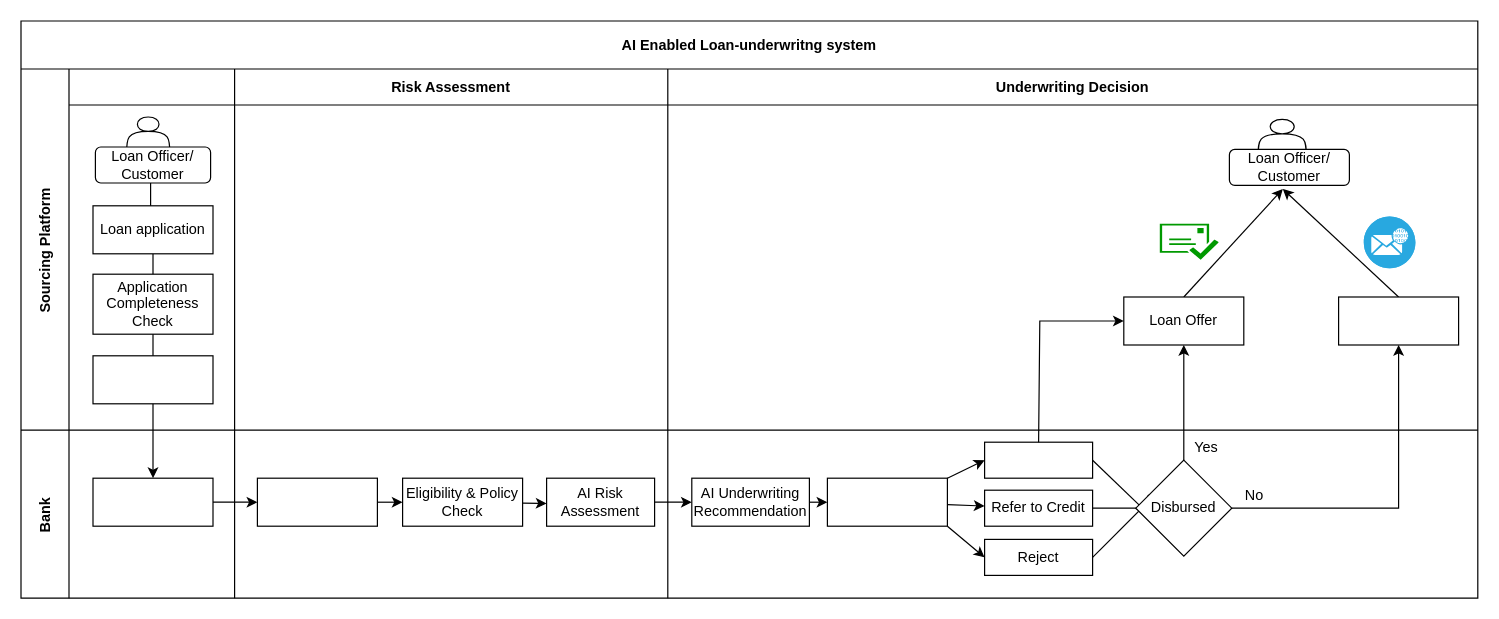
Image size: 1499x619. Some labels were removed from this diagram. Each missing label, with the centre of its shape:
Approve: the point at 1038,459
Credit Bureau Check: the point at 316,501
Data Collection: the point at 152,501
Decision Engine: the point at 886,501
KYC Verification: the point at 152,379
Rejection Reason: the point at 1398,320
